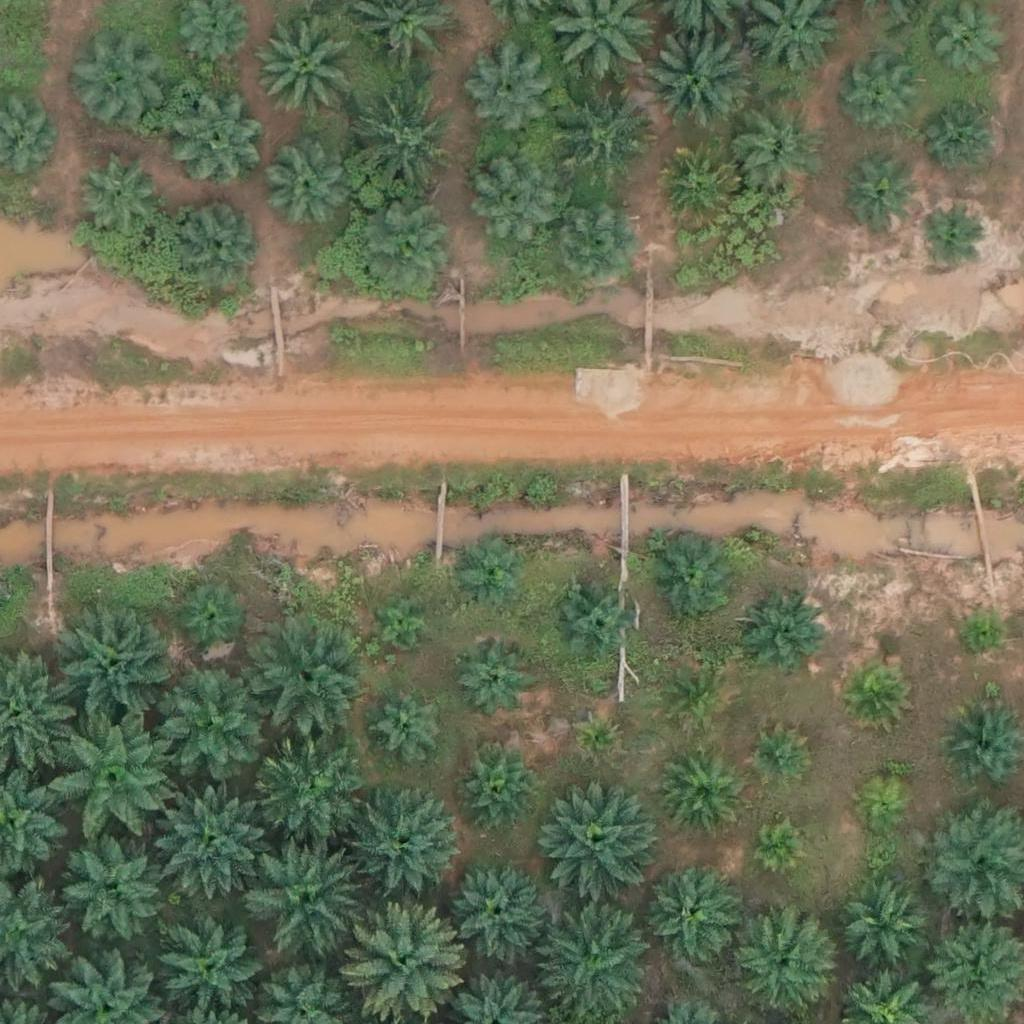Kelapa_Sawit: (542, 780, 655, 894), (343, 905, 456, 1019), (154, 785, 267, 899), (256, 740, 369, 853), (248, 623, 361, 736), (154, 668, 267, 781), (643, 23, 756, 136), (247, 845, 359, 959), (58, 717, 170, 831), (352, 788, 464, 901), (157, 907, 269, 1020), (61, 608, 173, 721), (343, 92, 455, 205), (450, 861, 550, 962), (550, 85, 650, 186), (256, 18, 356, 119), (67, 35, 167, 136), (731, 915, 831, 1015), (642, 863, 742, 963), (65, 833, 165, 933), (361, 205, 461, 305), (165, 85, 265, 185), (840, 881, 928, 969), (548, 577, 636, 665), (454, 744, 542, 832), (650, 143, 738, 231), (462, 49, 550, 137), (176, 193, 264, 281), (473, 156, 560, 245), (649, 533, 736, 621), (658, 748, 745, 836), (735, 110, 822, 198), (551, 202, 638, 290), (268, 146, 355, 234), (76, 147, 163, 235), (745, 601, 820, 677), (454, 643, 529, 719), (924, 7, 999, 83), (926, 95, 1001, 171), (844, 62, 919, 137), (842, 162, 917, 237), (456, 540, 519, 603), (178, 588, 241, 651), (845, 661, 908, 724), (915, 203, 978, 266), (377, 695, 439, 758), (668, 667, 730, 730), (855, 780, 905, 831), (757, 823, 807, 873), (752, 731, 802, 781), (379, 600, 429, 650), (961, 615, 998, 653), (576, 716, 613, 753)
